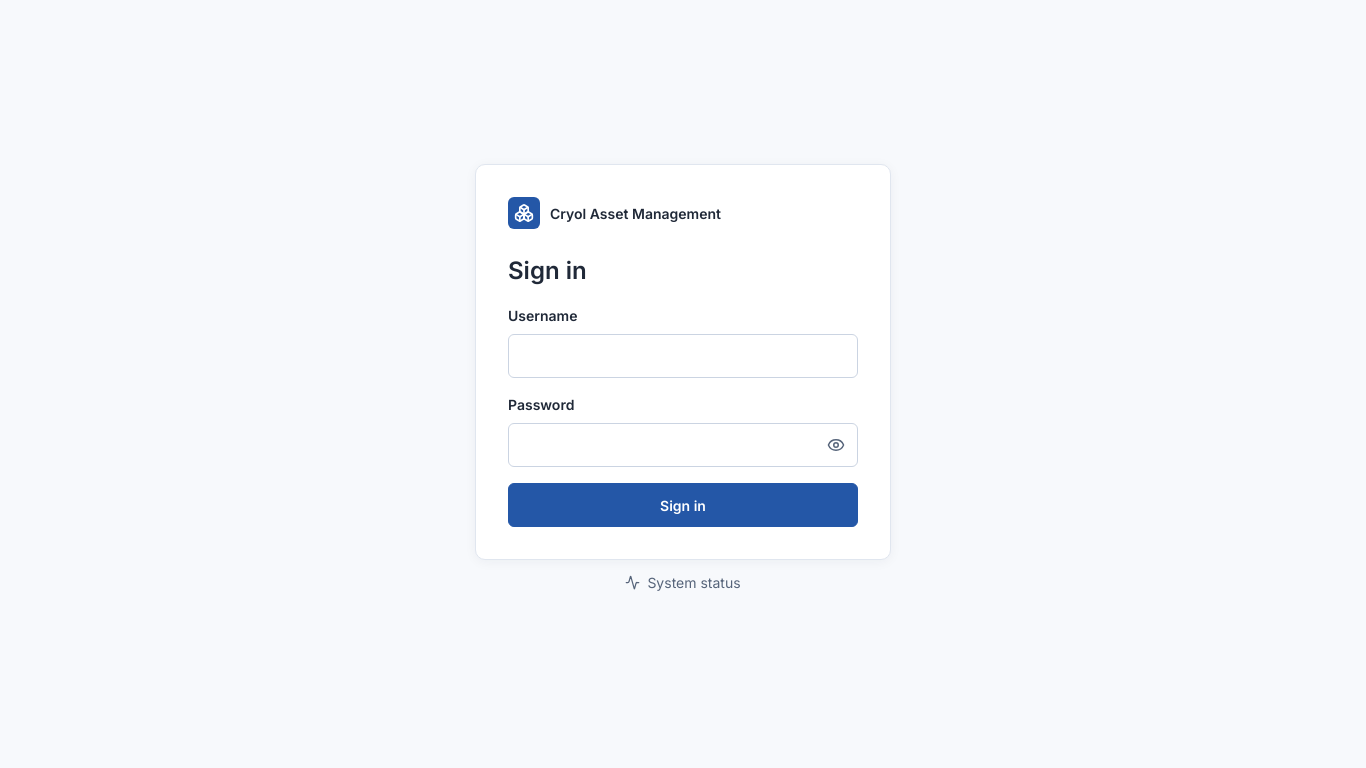
Test case: signs in, loads the authorized profile, and signs out
Expected: the heading "Sign in" is shown, [508,256,587,285]
Type "operator" into the field labelled "Username" at [683, 356], box [508,334,858,378]
Type "wrong password" into the password field labelled "Password" at [683, 445], box [508,423,858,467]
Click the button named "Show password" at [836, 445], box [818,427,854,463]
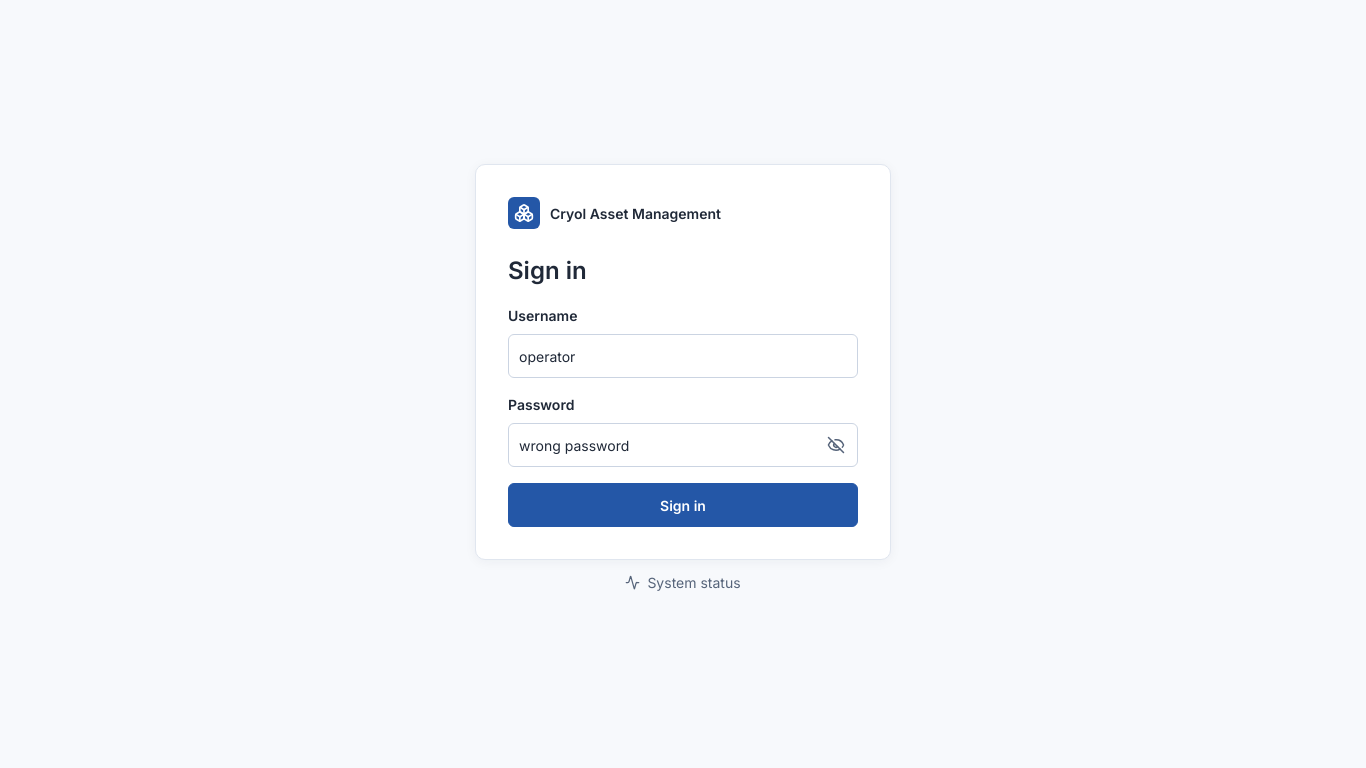
Expected: the field labelled "Password" shows its text, [508,423,858,467]
Click the button "Sign in" at [683, 505], box [508,483,858,527]
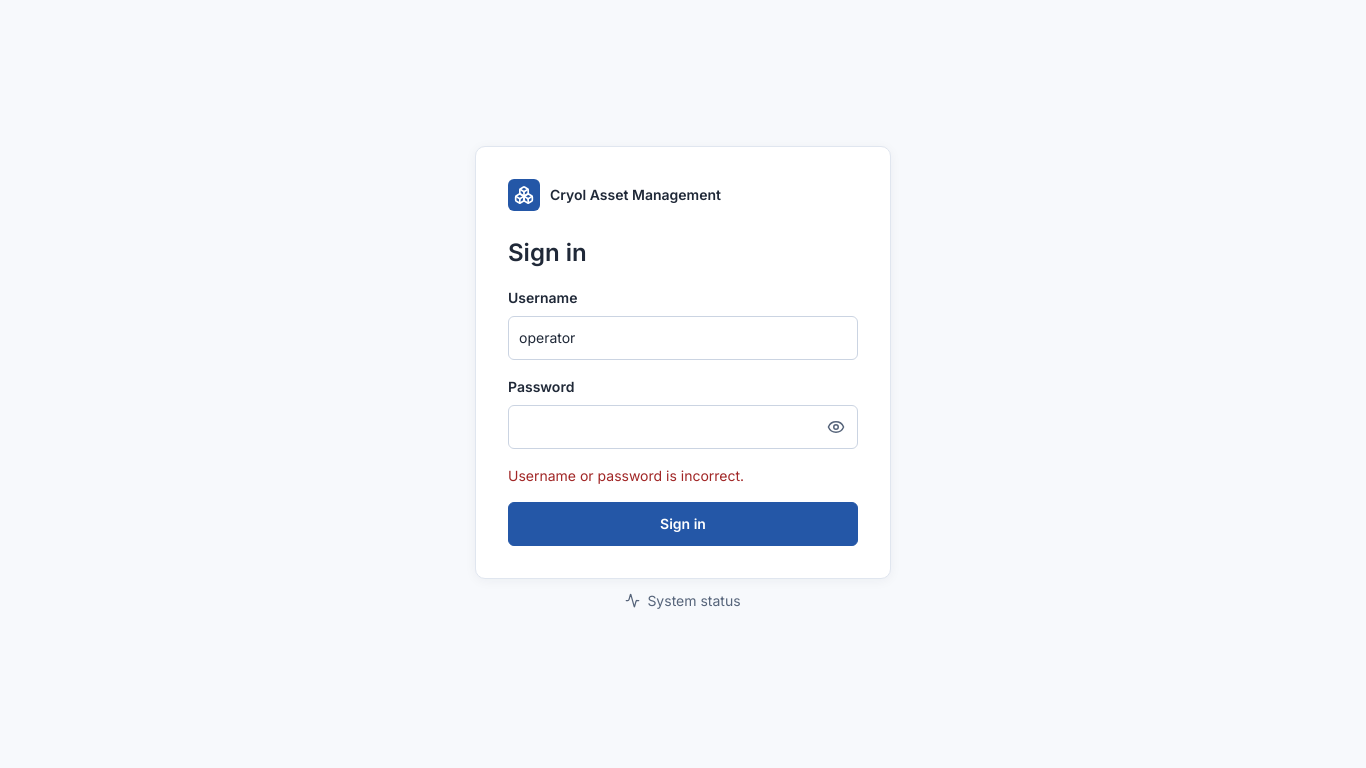
Expected: the message reads "Username or password is incorrect.", [508,466,744,484]
Expected: the password field labelled "Password" is empty
Type "temporary password" into the password field labelled "Password" at [683, 426], box [508,404,858,448]
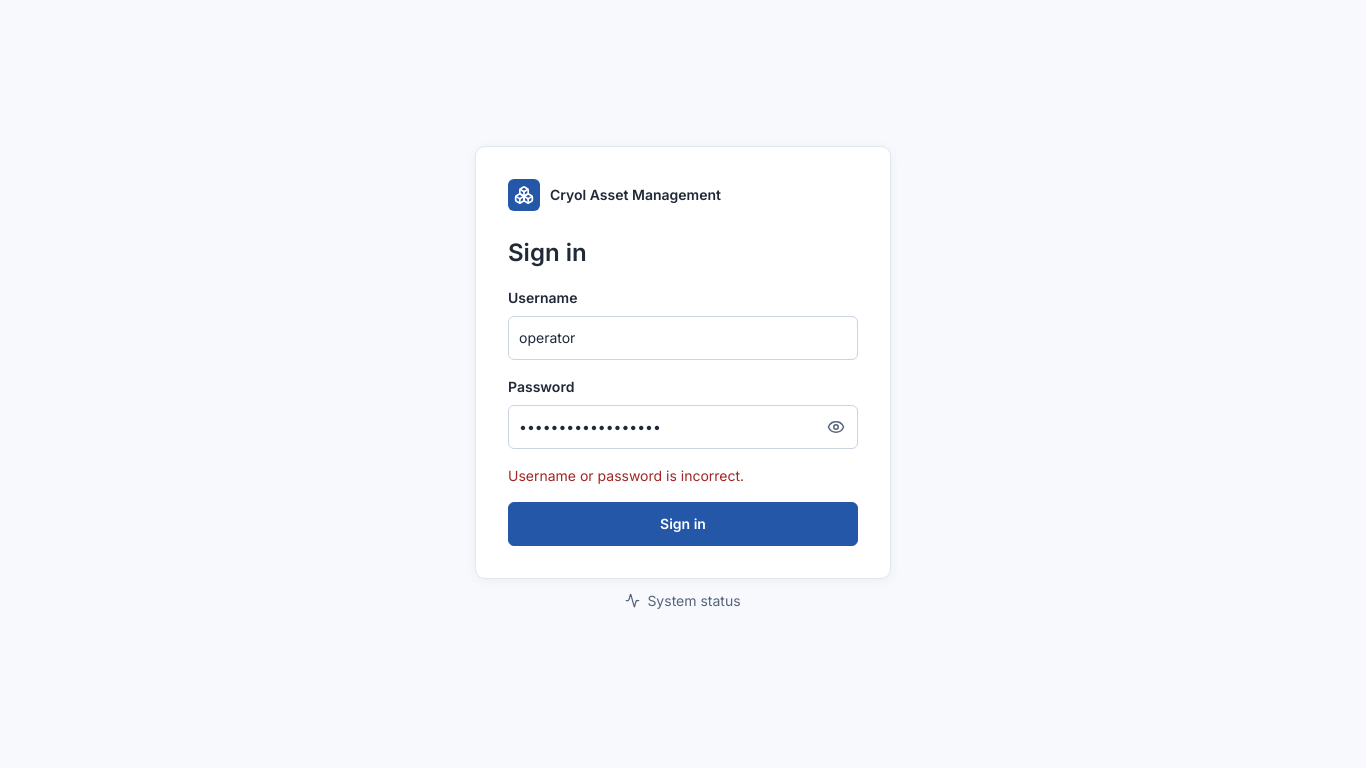
Click the button "Sign in" at [683, 524], box [508,502,858,546]
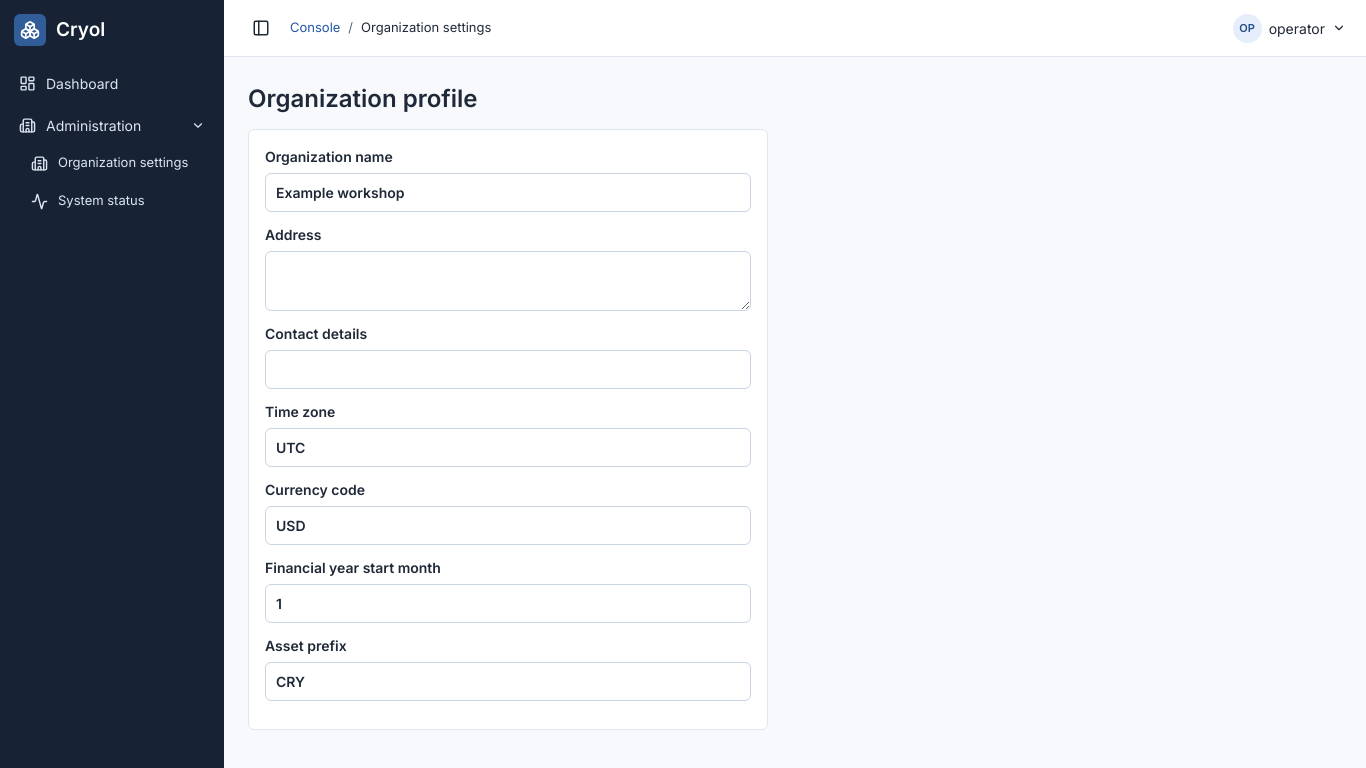
Expected: the field showing "Example workshop" is shown, [265,173,751,212]
Click the text "operator" at [1297, 28], box [1269,18,1325,38]
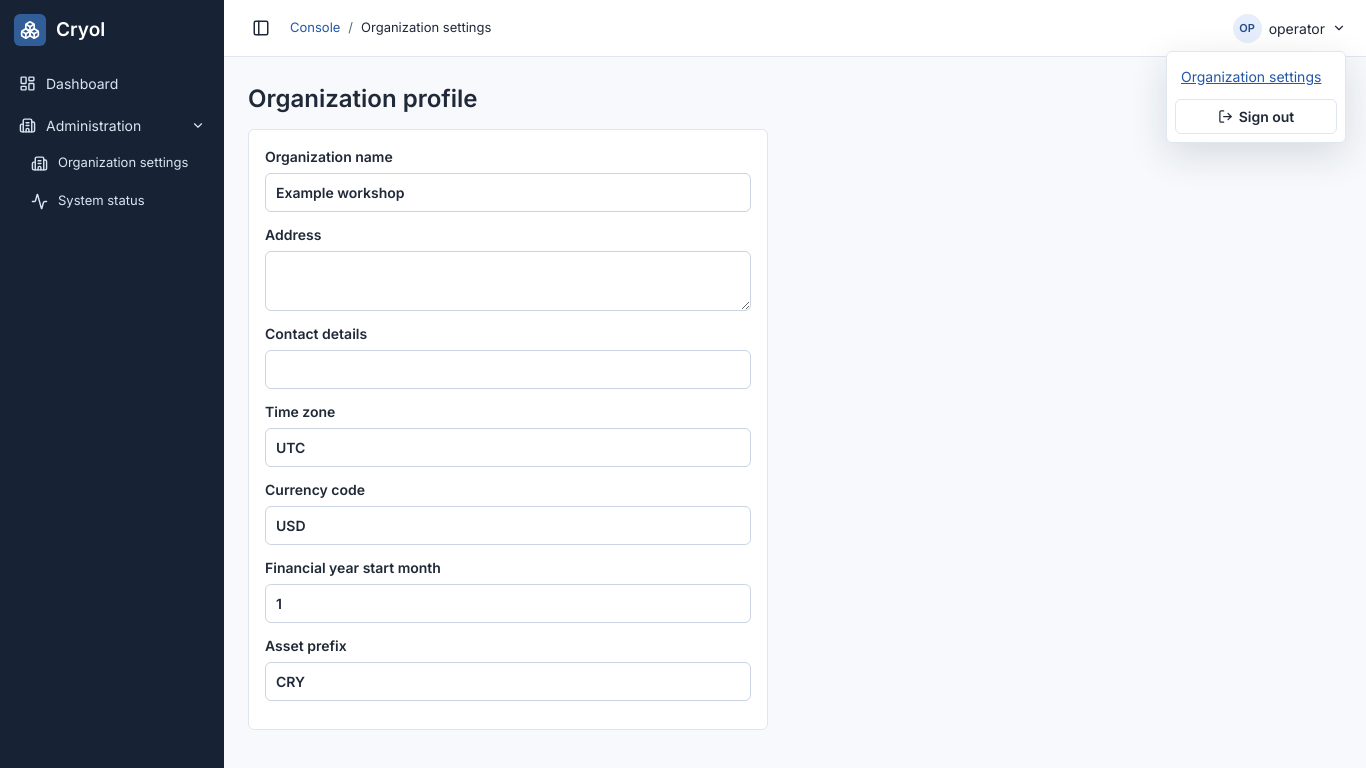
Click the button "Sign out" at [1256, 116], box [1175,98,1337,134]
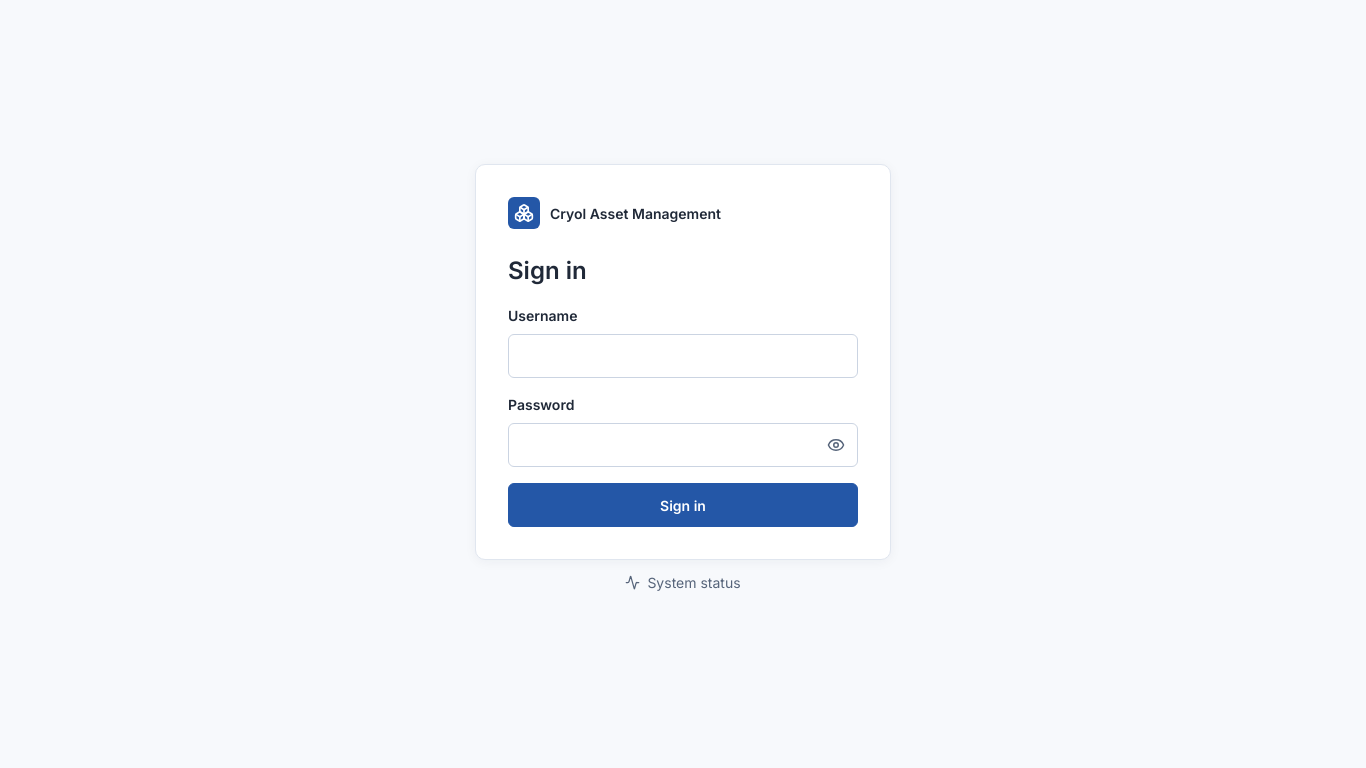
Expected: the field showing "Example workshop" is not shown
Expected: the heading "Sign in" is shown, [508,256,587,285]
